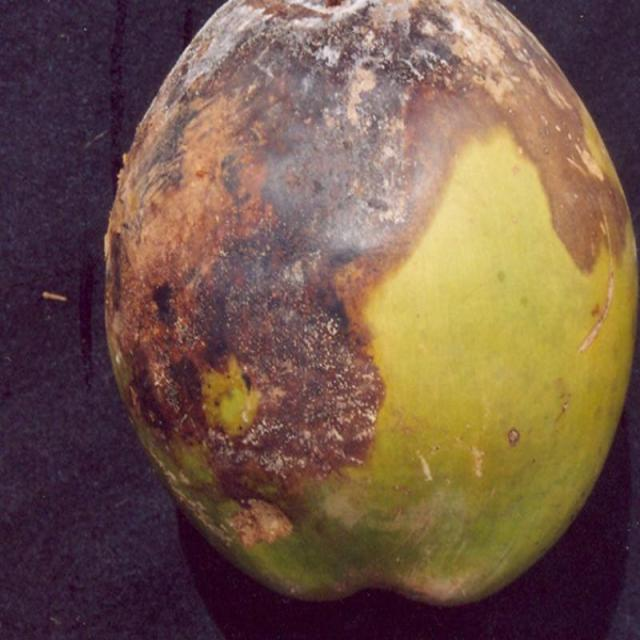damaged: (105, 0, 636, 603)
